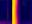Hotspot: (12, 0, 17, 23)
